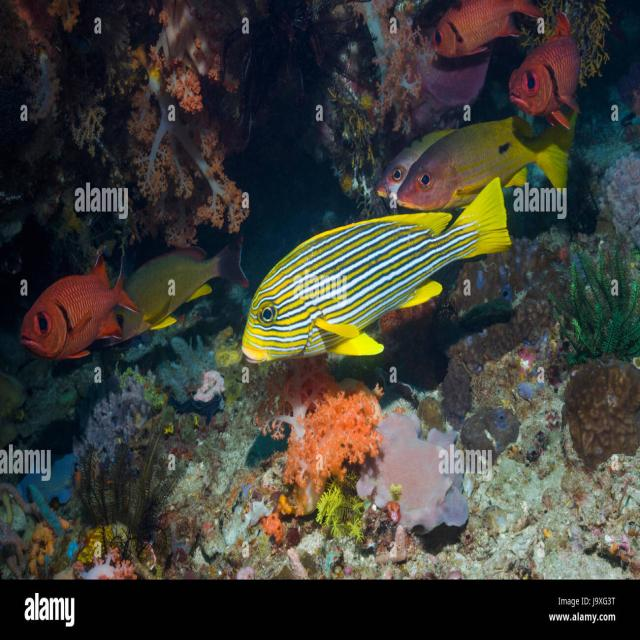RibbonedSweetlips: (240, 174, 513, 365)
